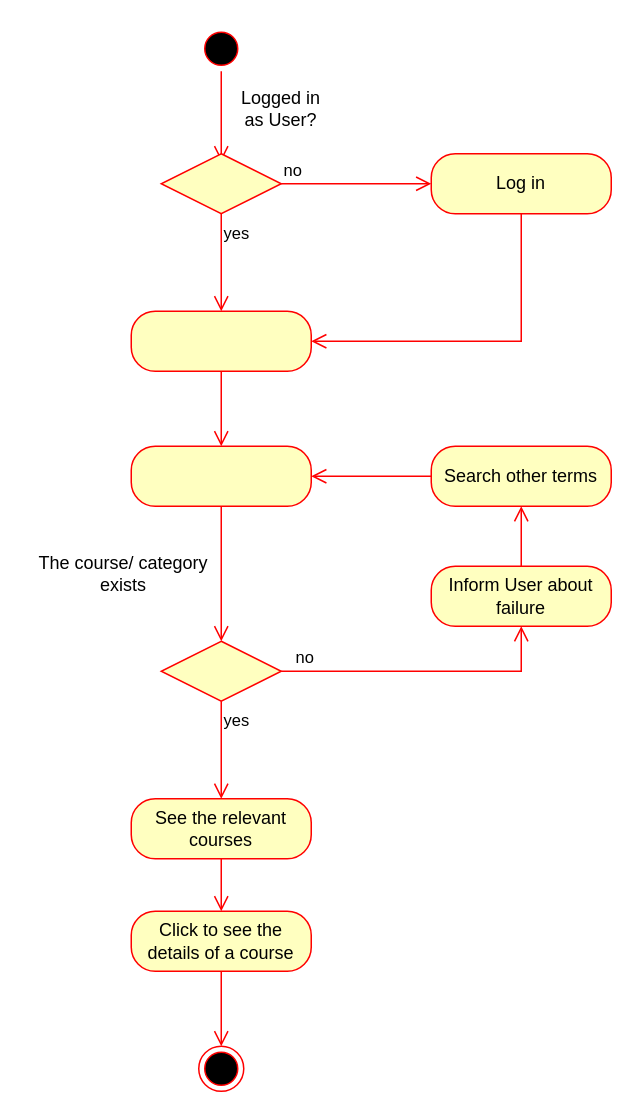
Some shapes in this 638 by 1118 pixel diagram are drawn without their labels. Each missing label, with the box of its shape:
Click on the search bar: (130, 310, 311, 371)
User type a course name or a category: (130, 445, 311, 506)
